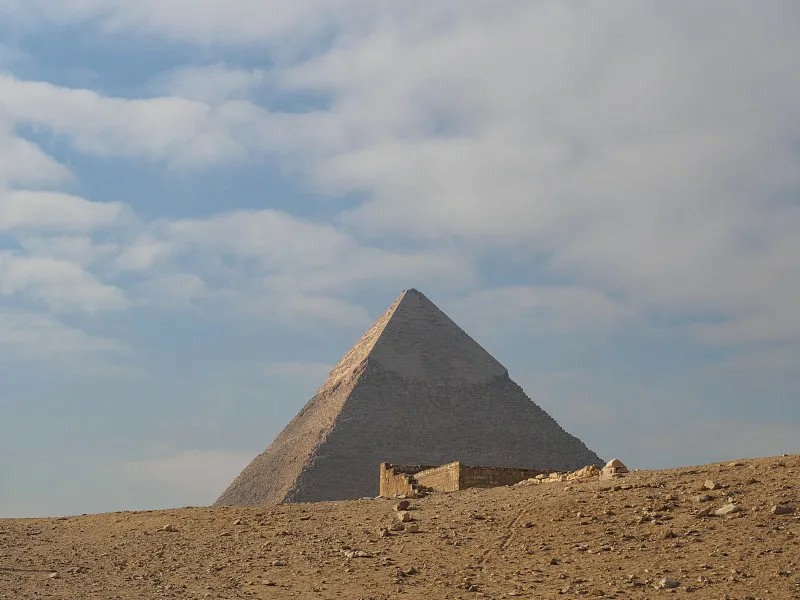Pyramid: (211, 289, 608, 513)
